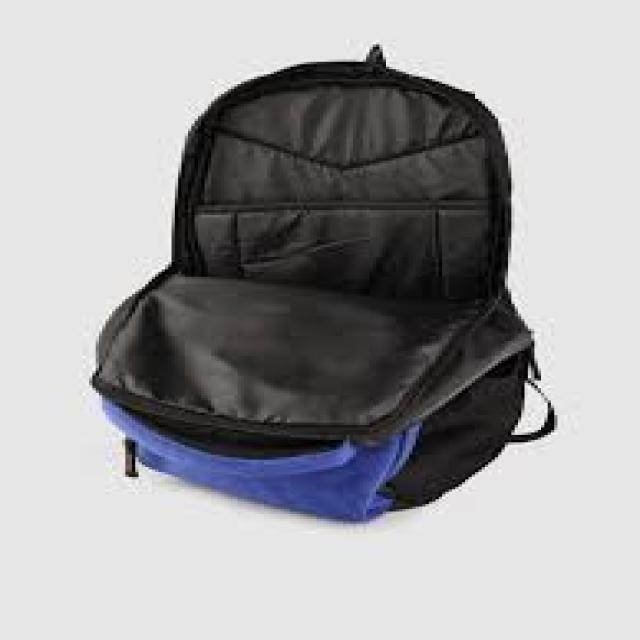backpack: (90, 43, 559, 522)
